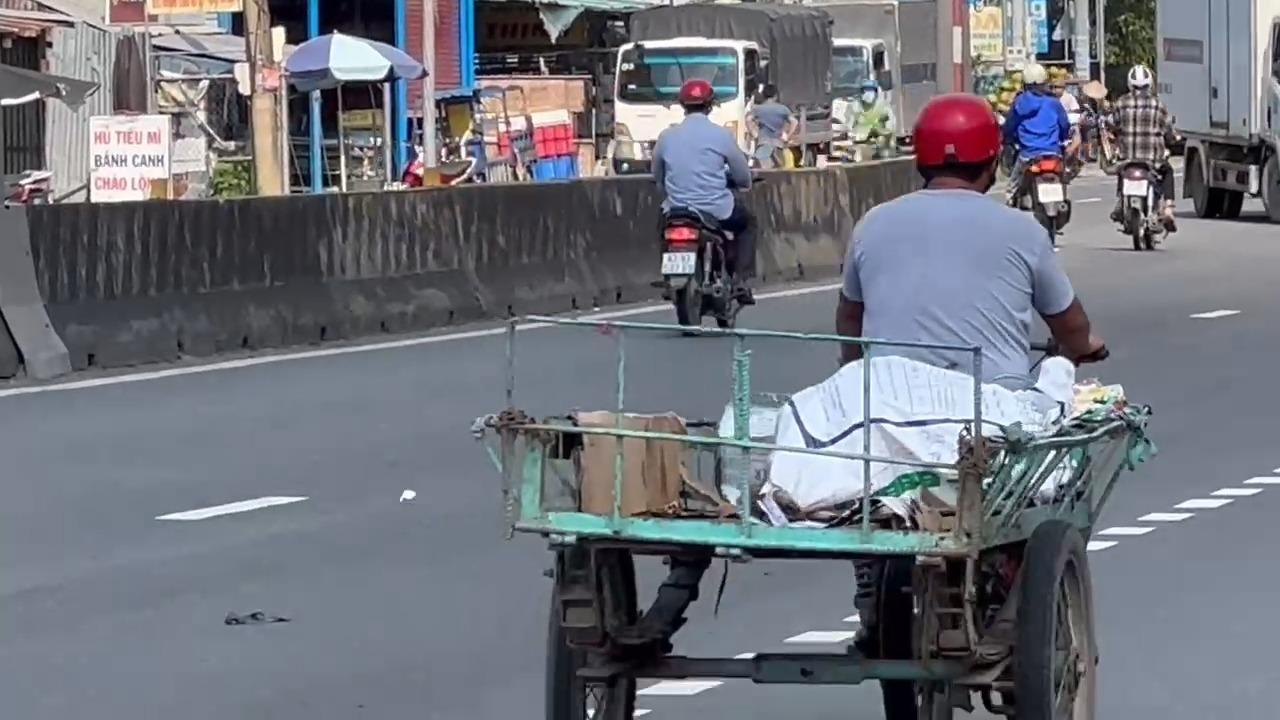bien_so: (660, 250, 696, 276)
